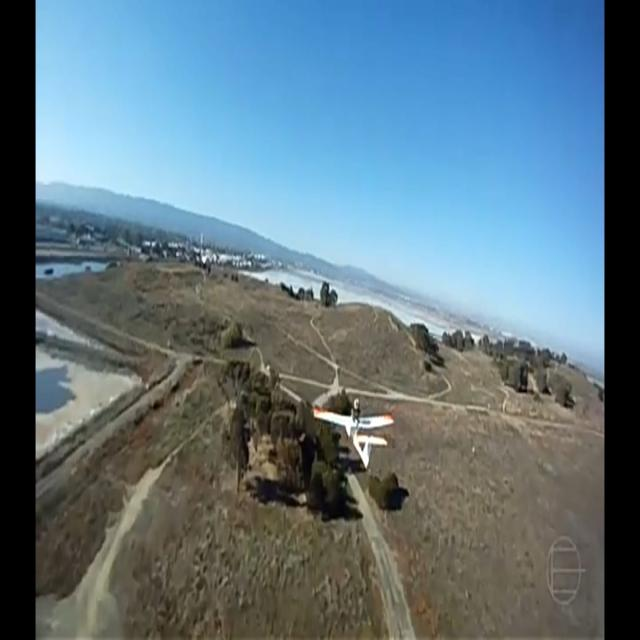iha: (345, 431, 364, 435)
